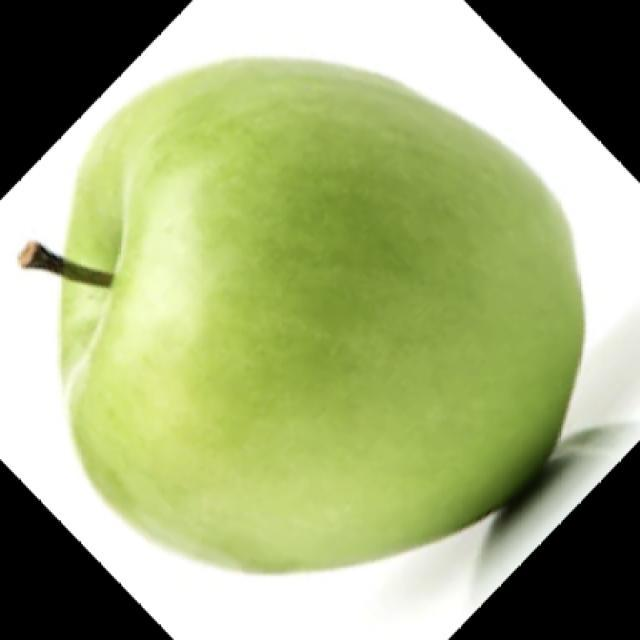Fresh Apple: (56, 52, 590, 574)
